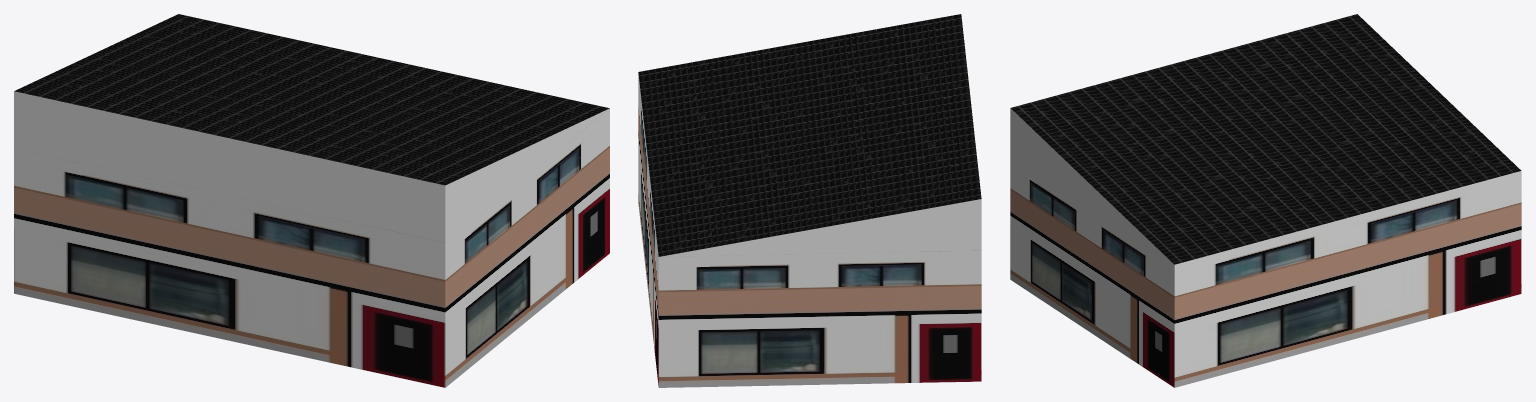
The picture shows the model from 3 angles, left to right: view 1: azimuth 30°, elevation 25°; view 2: azimuth 150°, elevation 25°; view 3: azimuth 270°, elevation 25°; orthographic projection. The views are drawn at different scales.
Visible parts, largest first — view 1: CityEngineMaterial_5_m, CityEngineMaterial_14_m, CityEngineMaterial_3_m; view 2: CityEngineMaterial_14_m, CityEngineMaterial_5_m, CityEngineMaterial_3_m; view 3: CityEngineMaterial_14_m, CityEngineMaterial_5_m, CityEngineMaterial_3_m.
Boxes of the visible parts, box(x1,y1,x2,y2) form: CityEngineMaterial_5_m: box(14, 108, 609, 387); CityEngineMaterial_14_m: box(14, 14, 609, 185); CityEngineMaterial_3_m: box(14, 91, 608, 242); CityEngineMaterial_14_m: box(638, 14, 981, 256); CityEngineMaterial_5_m: box(638, 73, 981, 387); CityEngineMaterial_3_m: box(659, 199, 981, 256); CityEngineMaterial_14_m: box(1011, 14, 1521, 264); CityEngineMaterial_5_m: box(1010, 156, 1521, 387); CityEngineMaterial_3_m: box(1010, 108, 1173, 263).
Size of the model in its own units: 31.58 by 12.52 by 33.74.
